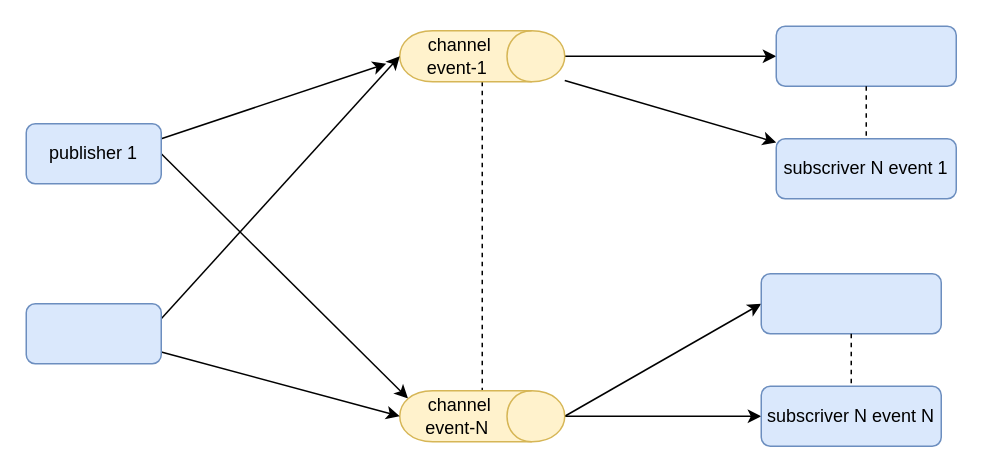
The diagram is 983 pixels wide and 473 high, and some of its shapes have lost their labels. The shapes that lost their labels are listed below. From the top down, each one's centre as x and y in pixels, then its label:
At point 865,55: "subscriver event 1".
At point 850,303: "subscriver event N".
At point 93,333: "publisher 2".
